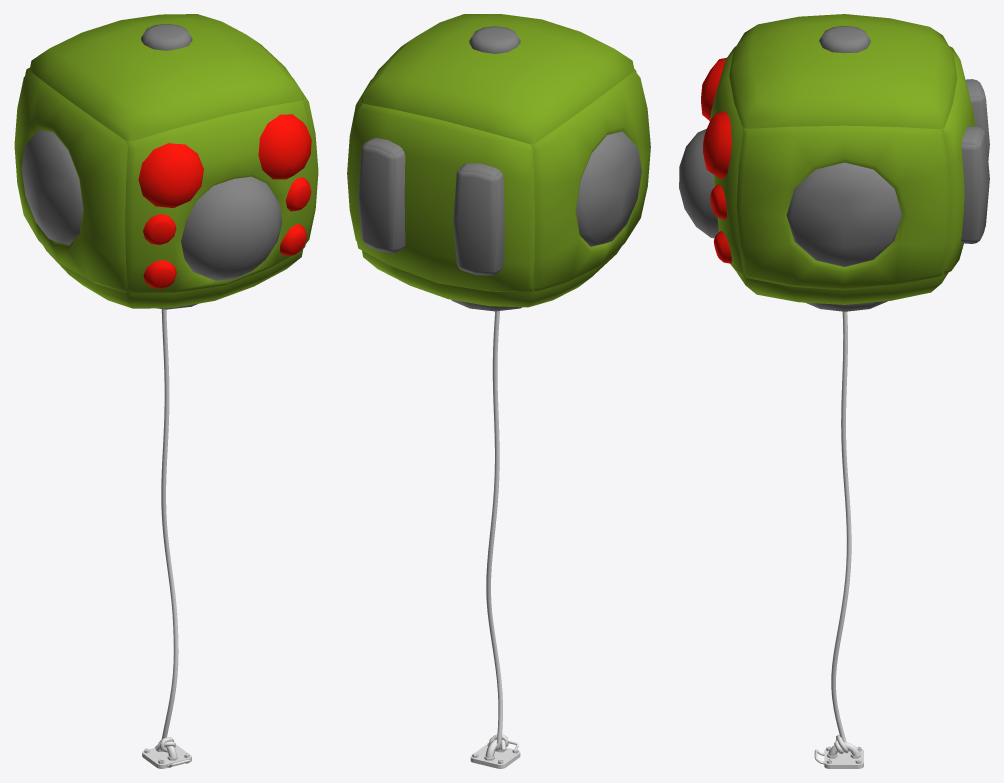
File: helium_balloon.fbx
The picture shows the model from 3 angles, left to right: view 1: azimuth 30°, elevation 25°; view 2: azimuth 150°, elevation 25°; view 3: azimuth 270°, elevation 25°; orthographic projection.
Parts seen in each view (by area): view 1: env_golf_totebotballoon; view 2: env_golf_totebotballoon; view 3: env_golf_totebotballoon.
Part boxes in pixels (x1,y1,x2,y2): env_golf_totebotballoon: (14,14,318,768); env_golf_totebotballoon: (347,14,650,768); env_golf_totebotballoon: (679,14,989,768).
Size of the model in its own units: 2.21 by 6.07 by 2.35.
